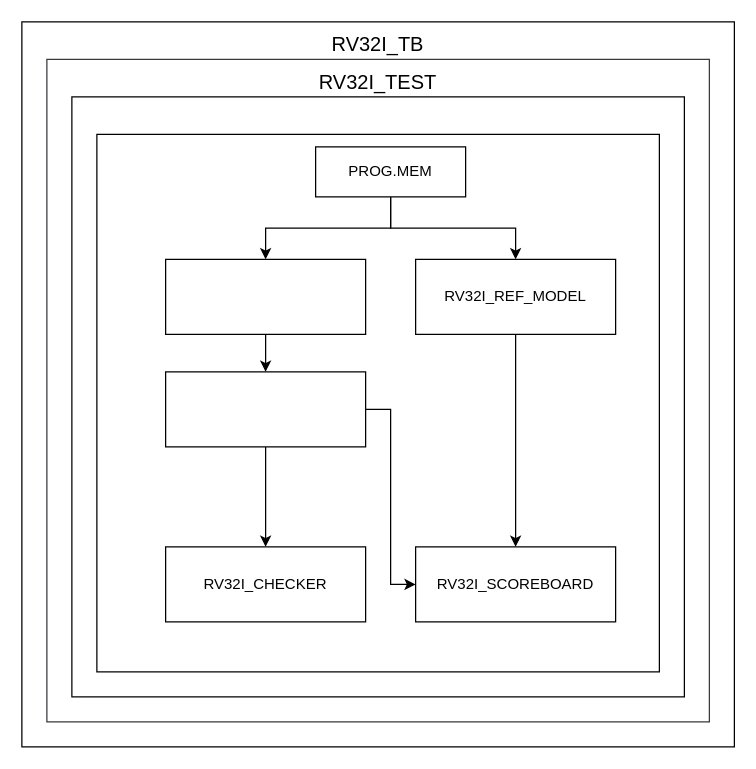
Some shapes in this 756 by 769 pixel diagram are drawn without their labels. The box of each missing label's shape, as (x1, y1, x2, y2) in pixels:
RV32I_ENV: (96, 133, 659, 672)
RV32I_IF (DUT_PIPELINED): (164, 258, 366, 334)
RV32I_MONITOR: (164, 371, 366, 447)
